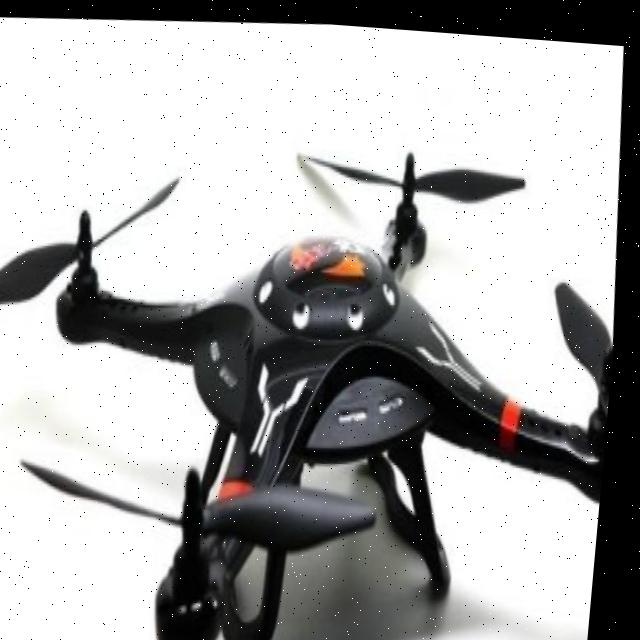drones: (0, 88, 634, 640)
